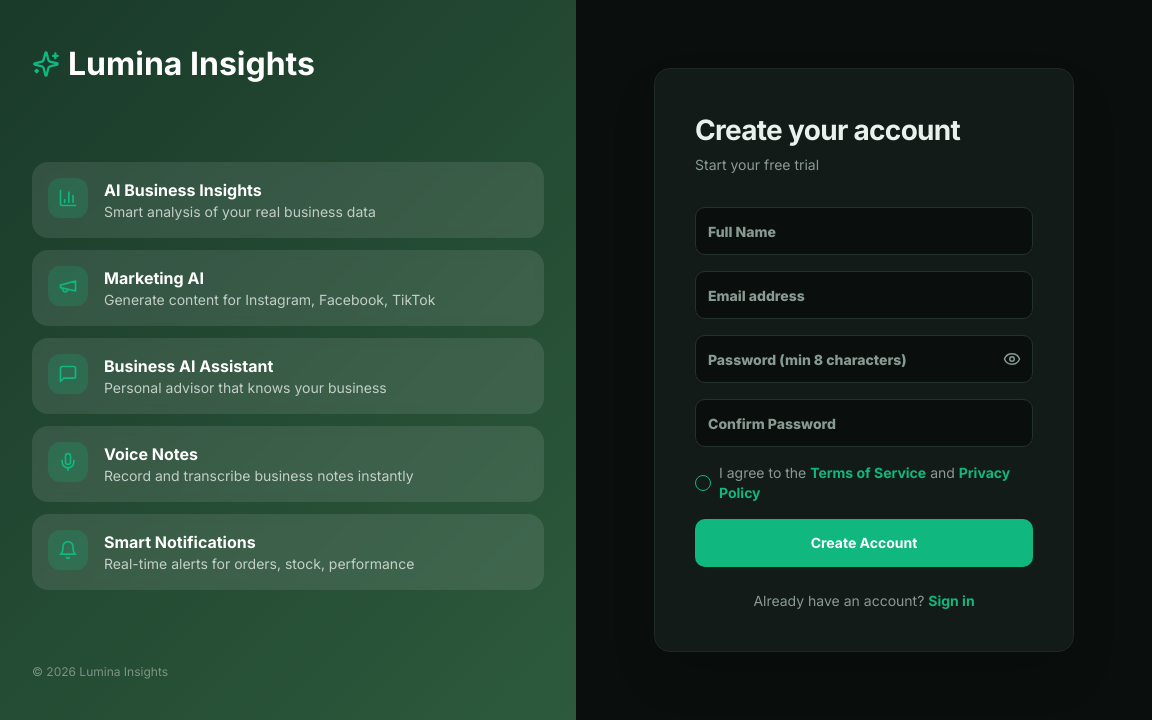
Test: Signup › does not add an invite token for a normal signup
Type "new@example.com" into the field with placeholder "Email address" at [864, 295], box left=695, top=271, right=1033, bottom=319
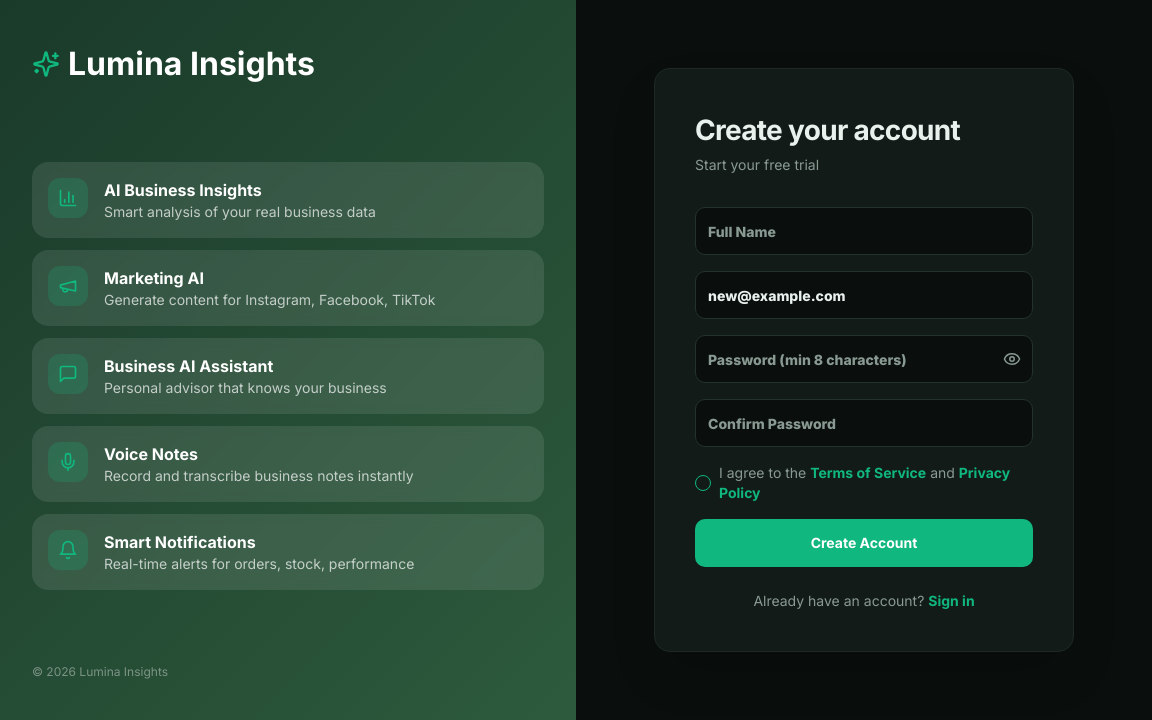
Type "Karim Ahmed" into the field with placeholder "Full Name" at [864, 231], box left=695, top=207, right=1033, bottom=255
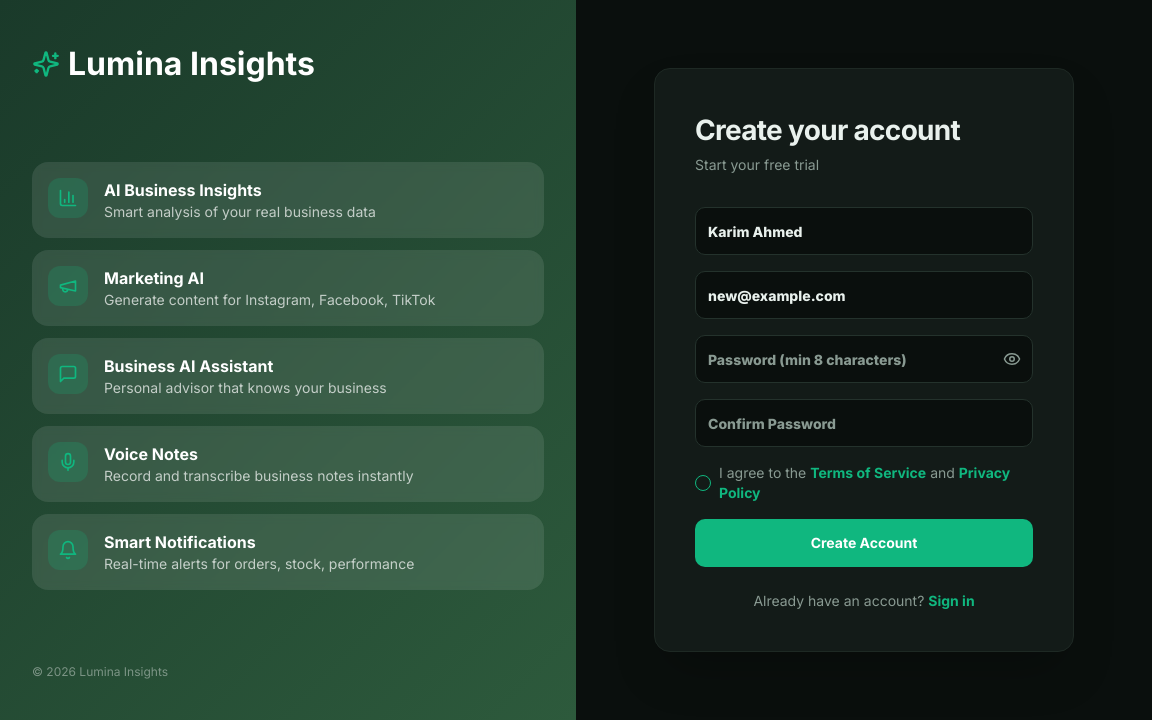
Type "Str0ng!pass" into the password field with placeholder "Password (min 8 characters)" at [864, 359], box left=695, top=335, right=1033, bottom=383
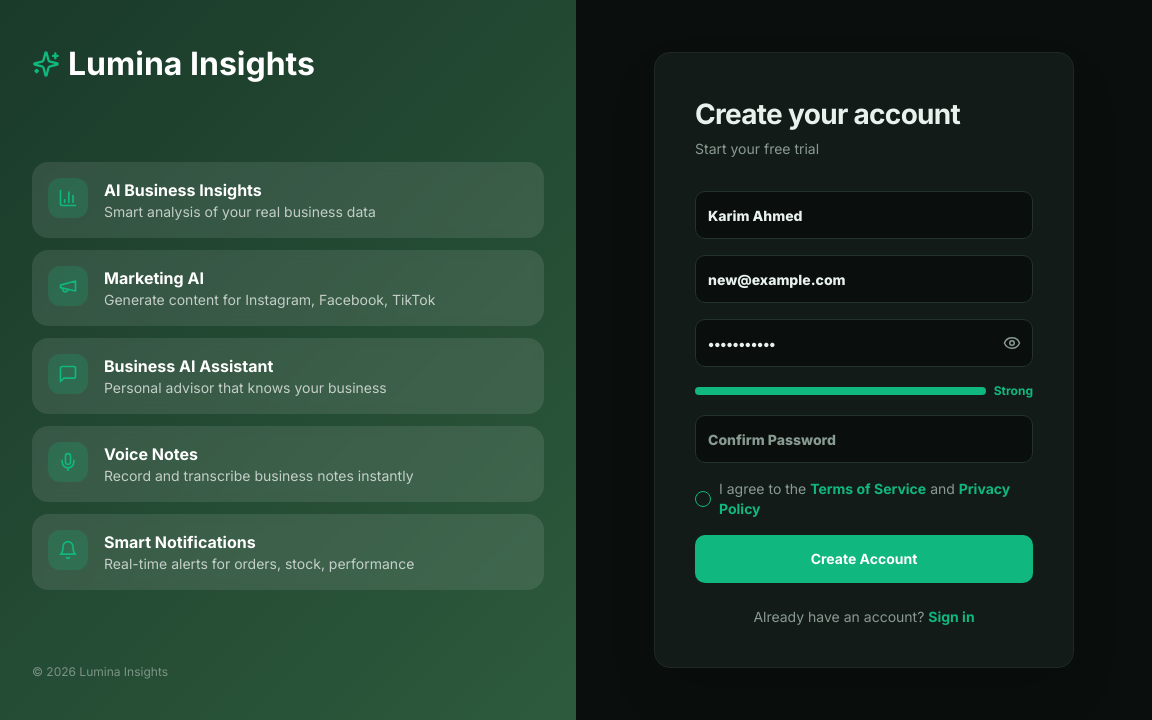
Type "Str0ng!pass" into the password field with placeholder "Confirm Password" at [864, 439], box left=695, top=415, right=1033, bottom=463
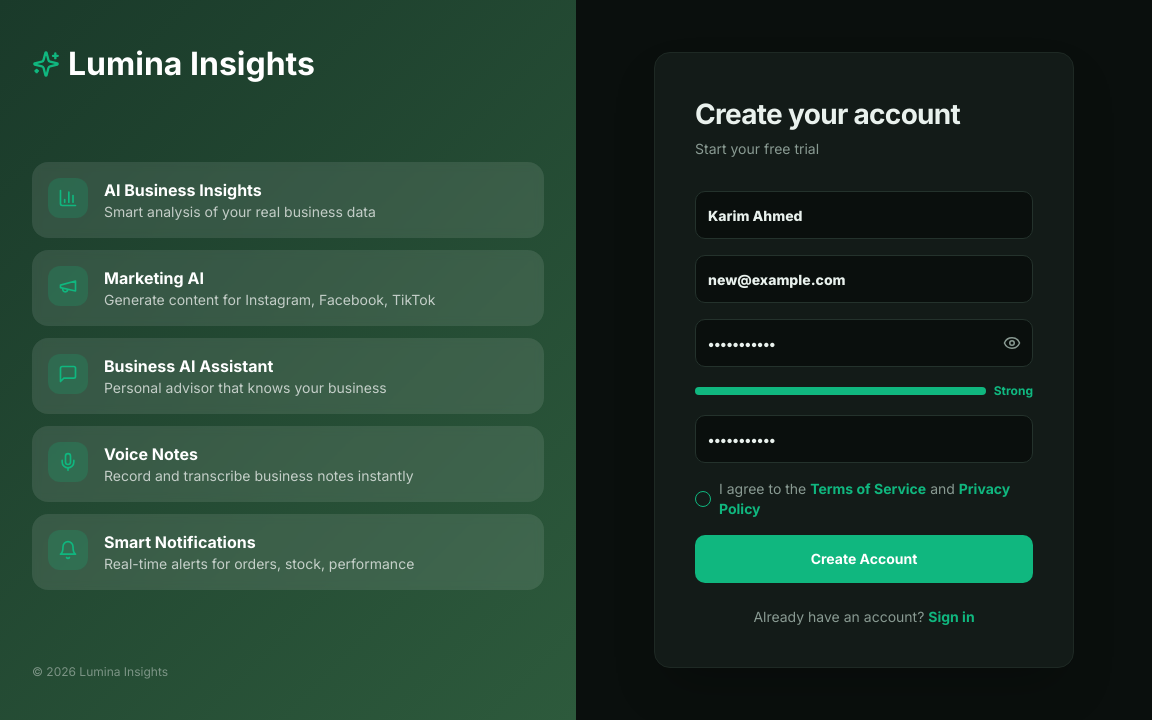
Click the checkbox at [703, 499], box left=695, top=491, right=711, bottom=507
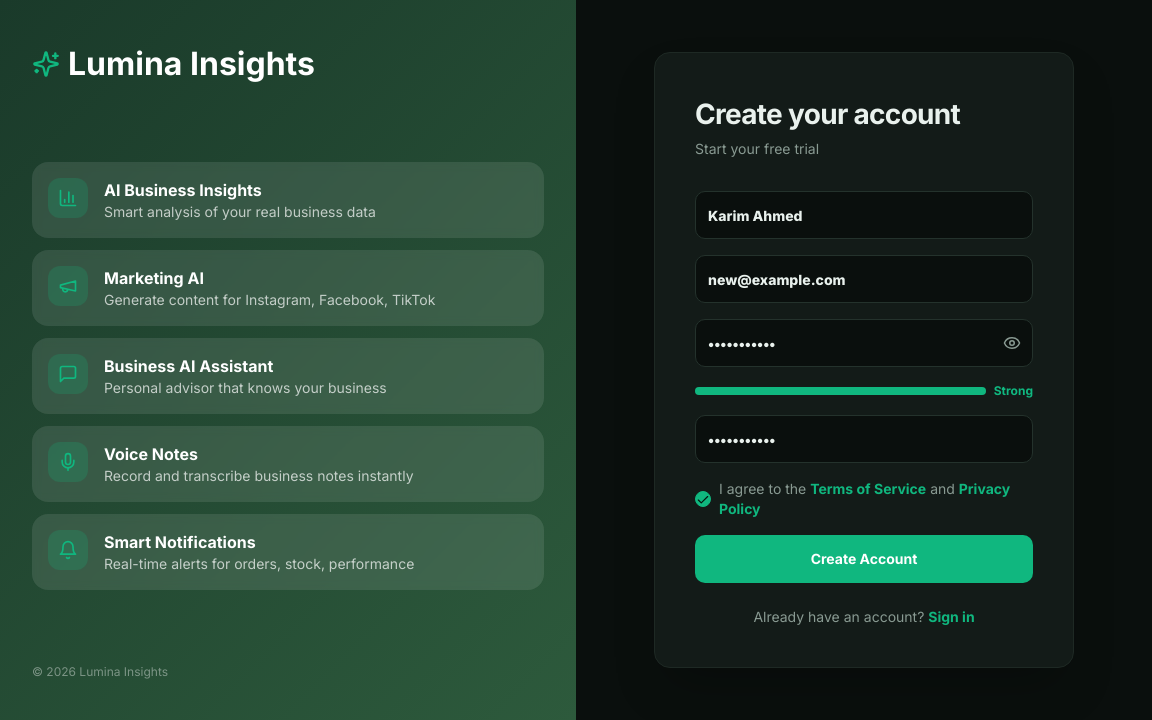
Click the button "Create Account" at [864, 559], box left=695, top=535, right=1033, bottom=583
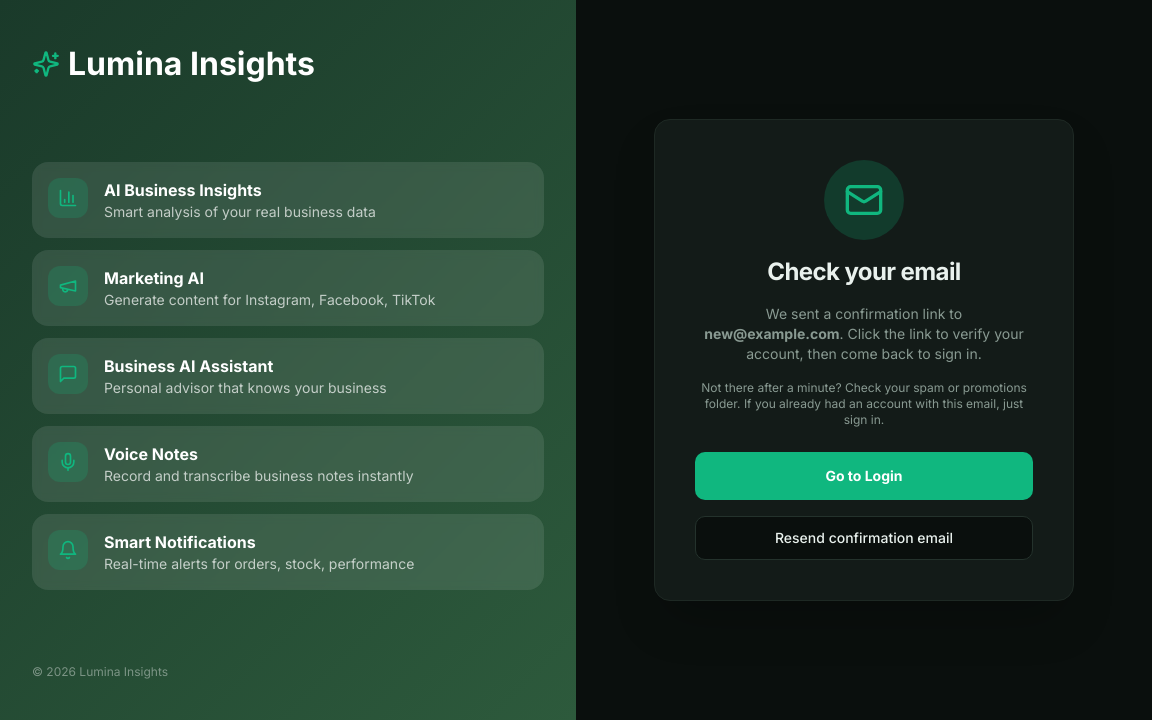
Result: the heading "Check your email" is shown at left=767, top=256, right=961, bottom=288
